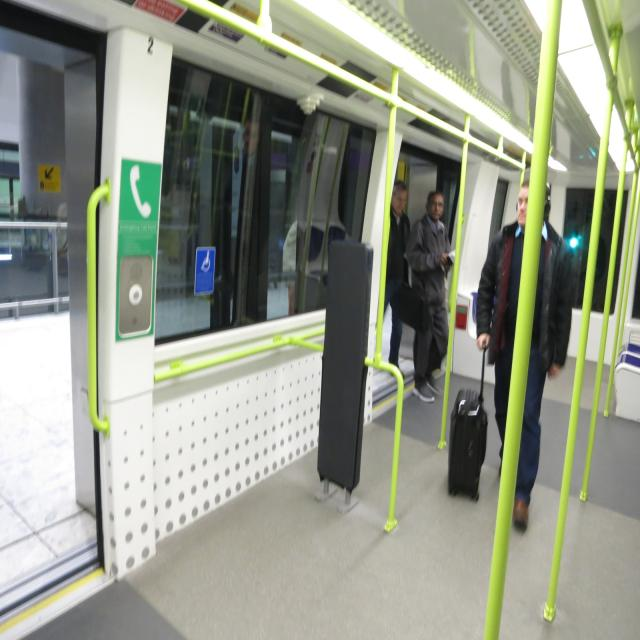body: (474, 174, 576, 532), (203, 108, 280, 332), (404, 185, 458, 409), (384, 178, 414, 381)
